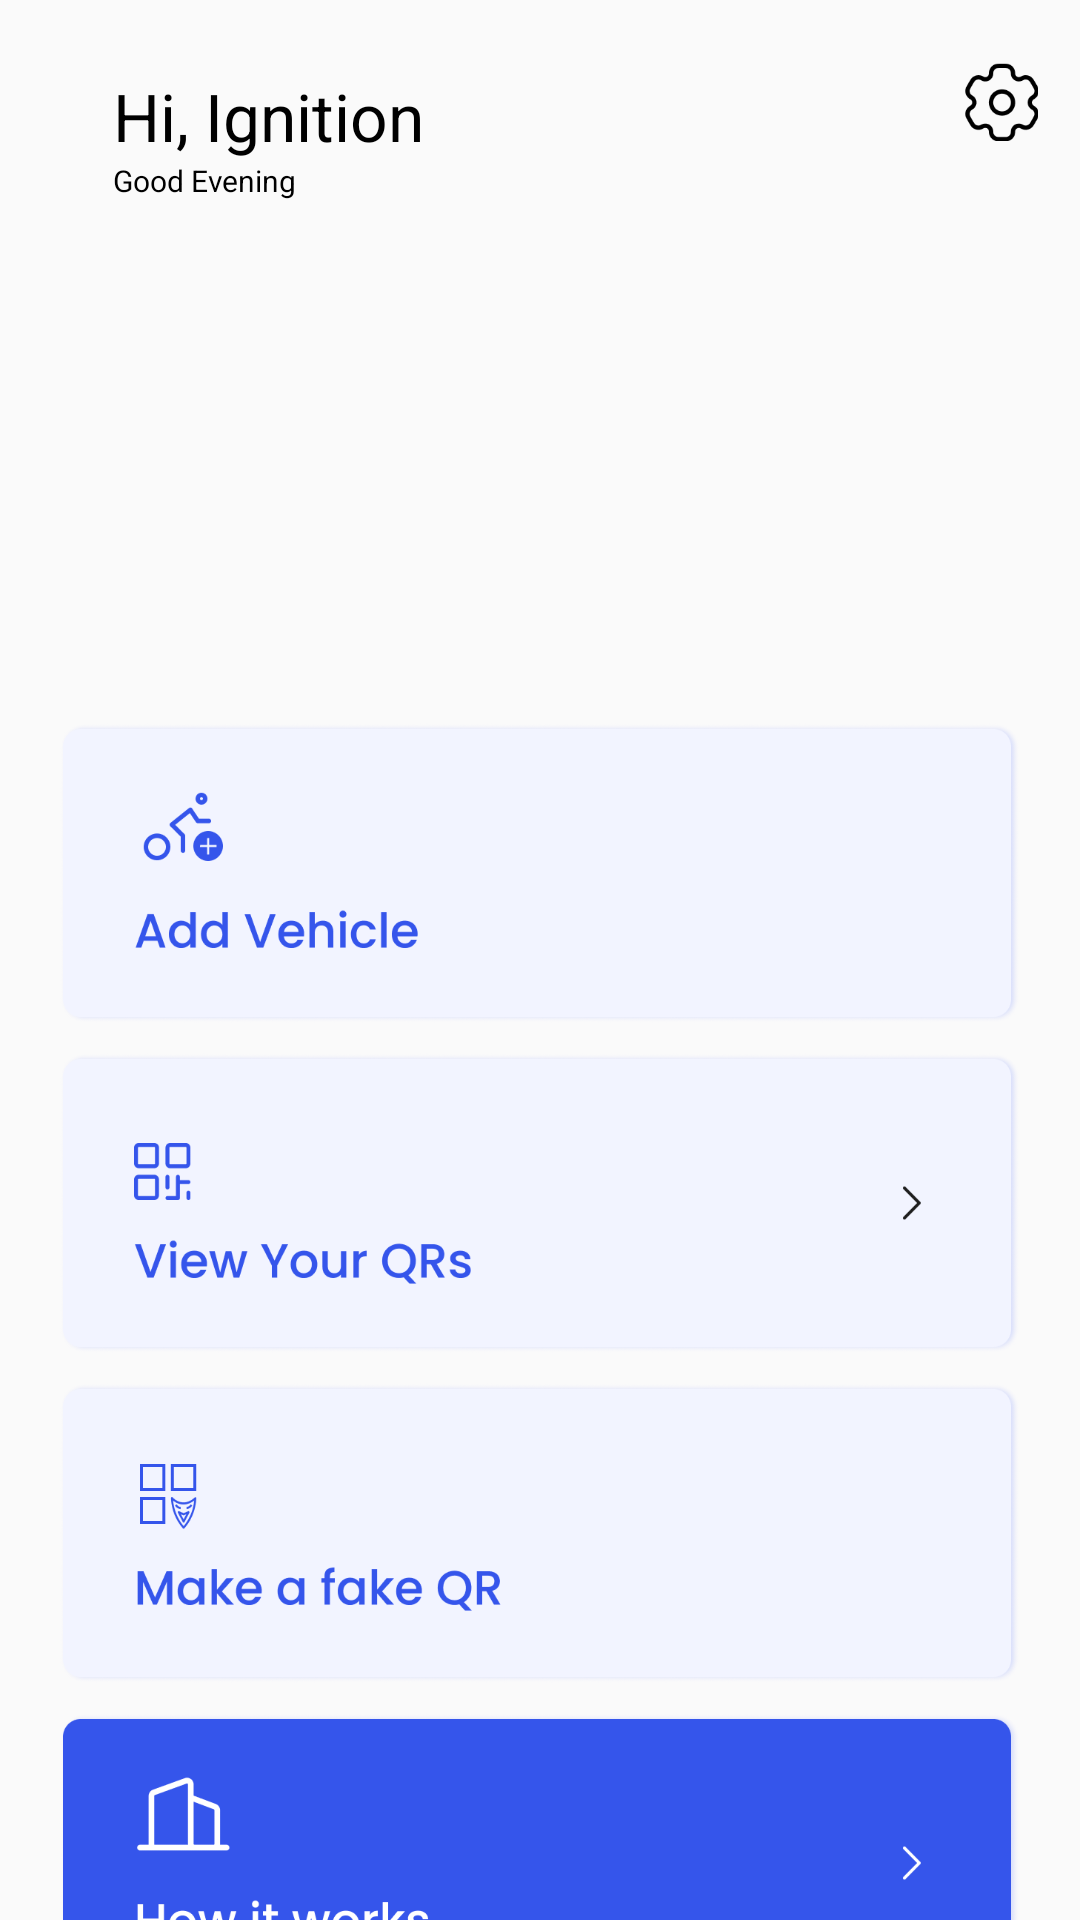

Where icons sit on this 1080 × 1920 app screen, as (x1, y1, x2, y2):
settings: (965, 63, 1038, 141)
